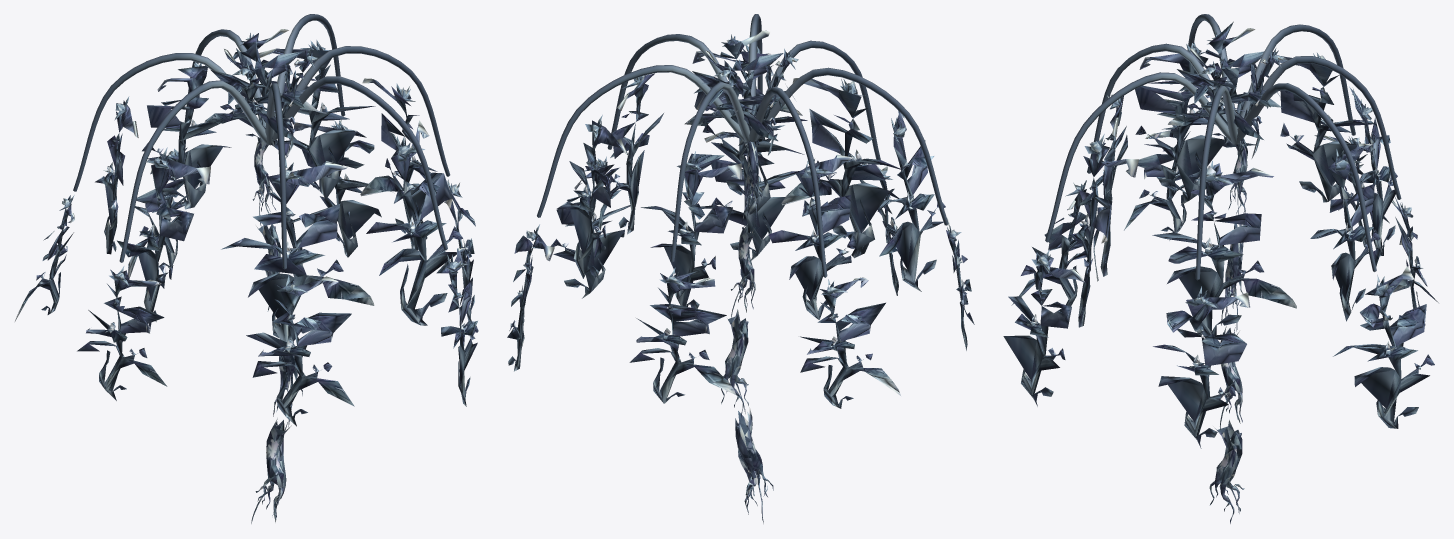
Rendered from moonfeather.glb.
The picture shows the model from 3 angles, left to right: view 1: azimuth 30°, elevation 25°; view 2: azimuth 150°, elevation 25°; view 3: azimuth 270°, elevation 25°; orthographic projection.
Parts seen in each view (by area): view 1: Mesh; view 2: Mesh; view 3: Mesh.
Boxes of the visible parts, x1,y1,x2,y2 form: Mesh: [15, 14, 478, 523]; Mesh: [507, 14, 974, 523]; Mesh: [1003, 14, 1438, 523].
Bounding box in the file's own units: 1.31 × 1.47 × 1.2.
Materials: 1 (1 with a texture image).
